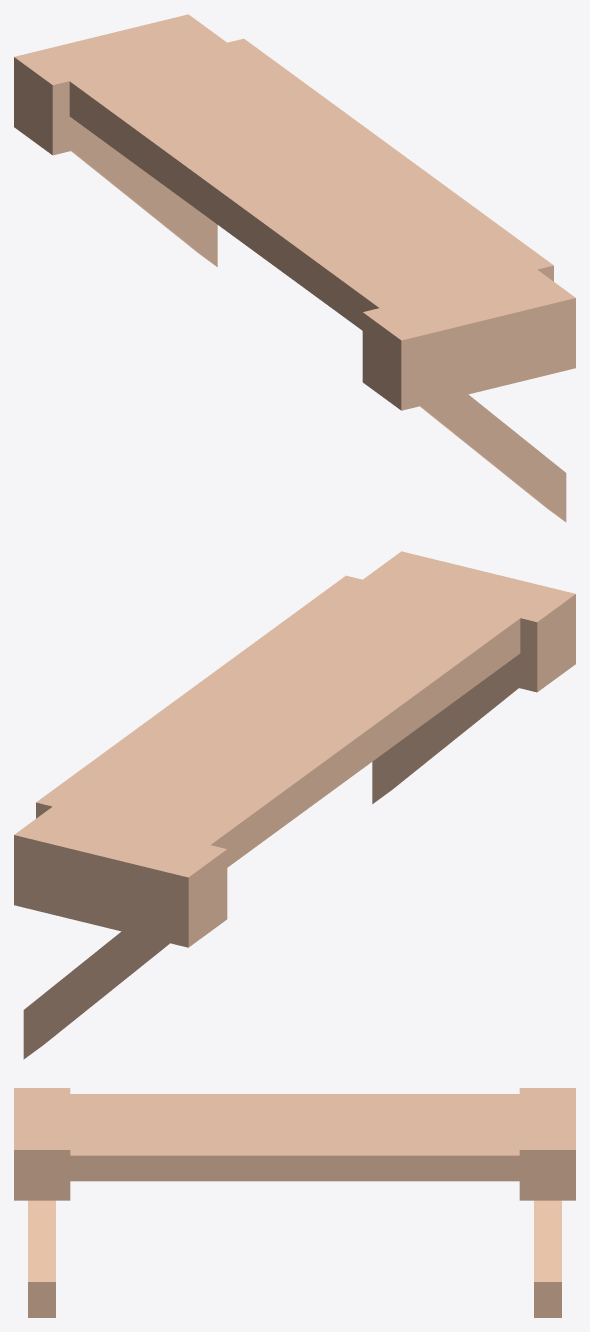
3 views of the same model, one above another, from view 1: azimuth 30°, elevation 25°; view 2: azimuth 150°, elevation 25°; view 3: azimuth 270°, elevation 25° (orthographic). The views are drawn at different scales.
Parts seen in each view (by area): view 1: overhang; view 2: overhang; view 3: overhang.
Part boxes in pixels (box(x1,y1,x2,y2)): overhang: box(14, 14, 575, 522); overhang: box(14, 551, 575, 1059); overhang: box(14, 1088, 575, 1317).
Size of the model in its own units: 0.285 by 0.33 by 1.
